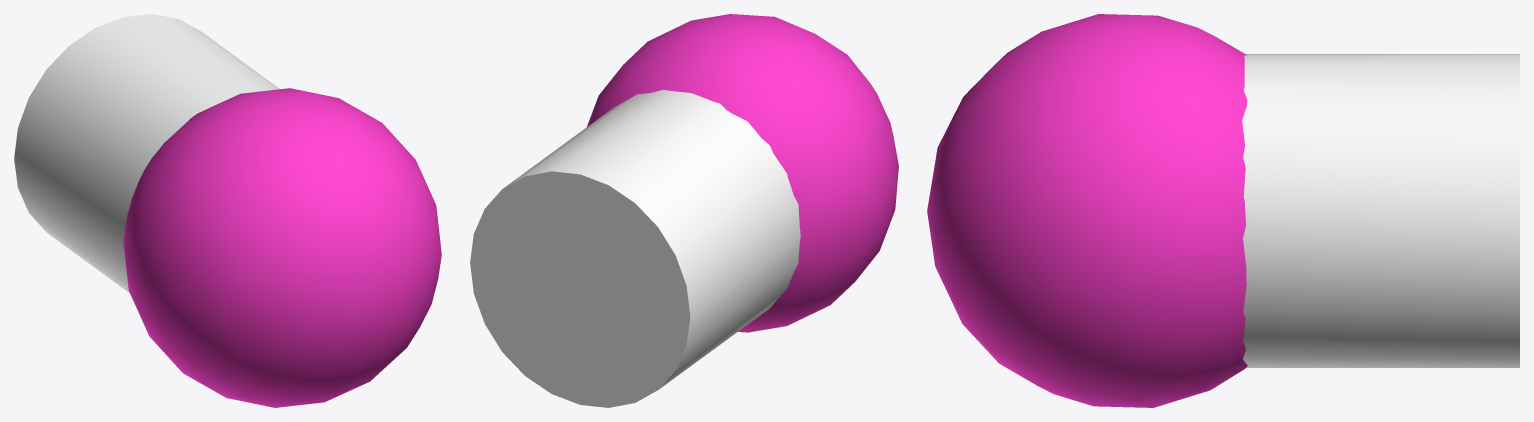
File: finger.obj
3 views of the same model, side by side, from view 1: azimuth 30°, elevation 25°; view 2: azimuth 150°, elevation 25°; view 3: azimuth 270°, elevation 25° (orthographic). The views are drawn at different scales.
Visible parts, largest first — view 1: ball, finger; view 2: finger, ball; view 3: ball, finger.
Boxes of the visible parts, x1=… form: ball: x1=123, y1=88, x2=441, y2=407; finger: x1=14, y1=14, x2=279, y2=292; finger: x1=470, y1=89, x2=800, y2=407; ball: x1=587, y1=14, x2=898, y2=332; ball: x1=927, y1=14, x2=1247, y2=407; finger: x1=1242, y1=54, x2=1519, y2=367.
Bounding box in the file's own units: 0.1515 × 0.1515 × 0.2258.
